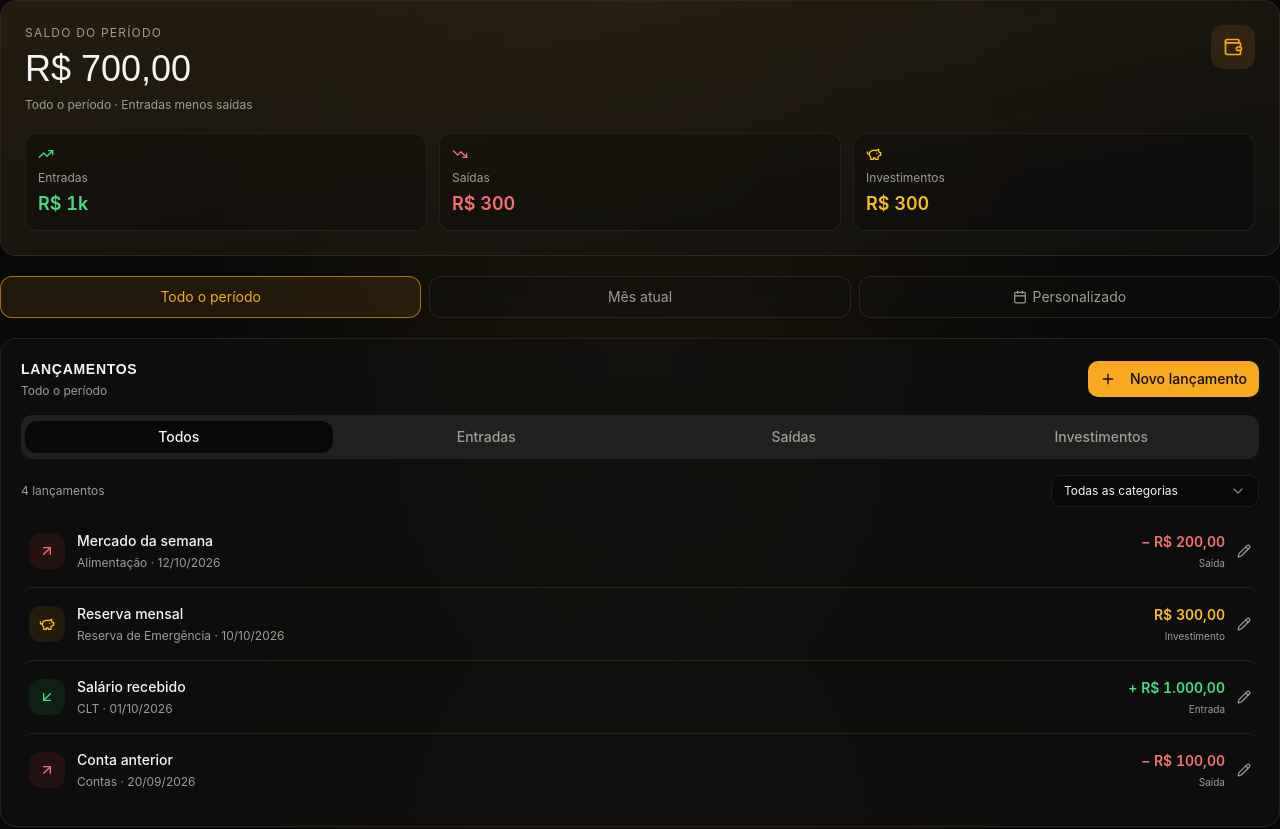
Test: finance overview and unified transactions › preselects the active tab type and allows choosing another type without clearing the description
Step 1. Press the mouse on the tab "Investimentos" → (1101,437), box [948,421,1255,453]
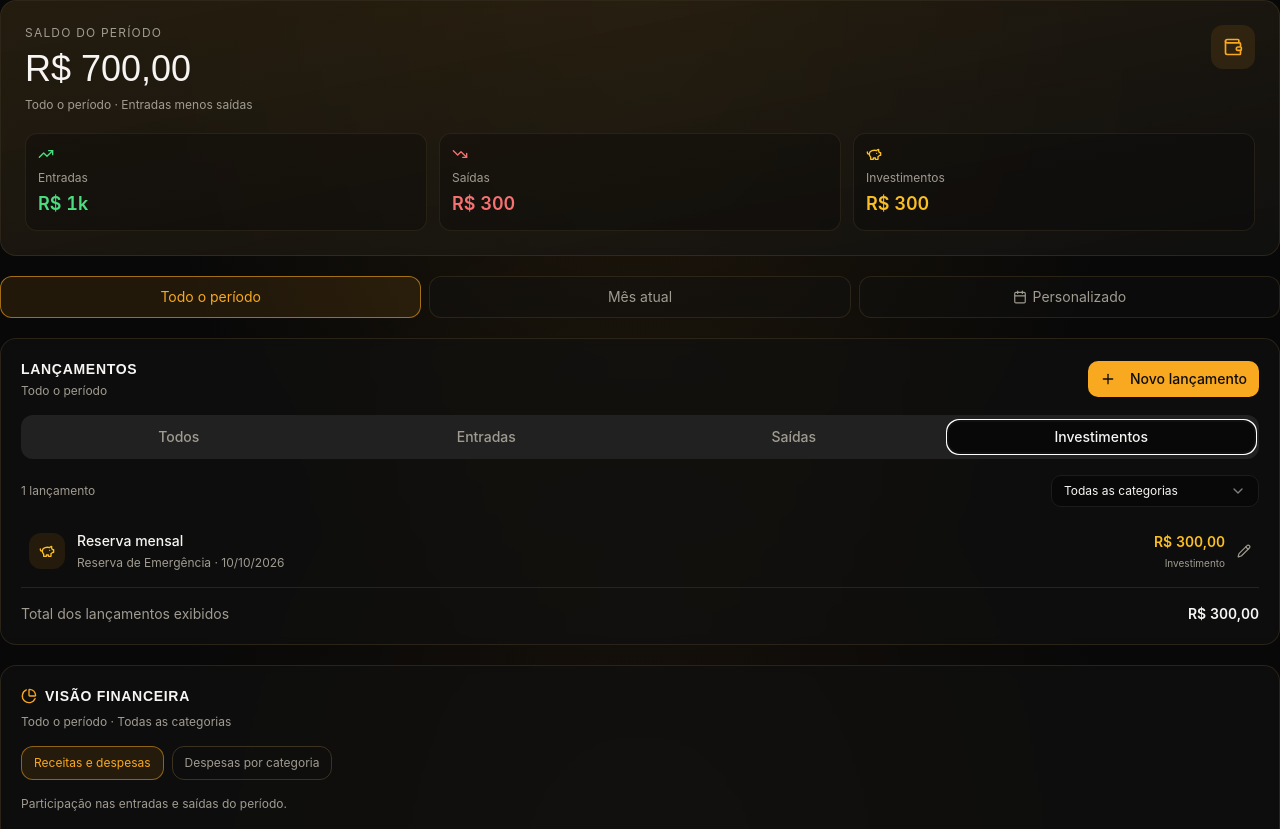
Step 2. Click the button "Novo lançamento" → (1174,379), box [1088,361,1259,397]
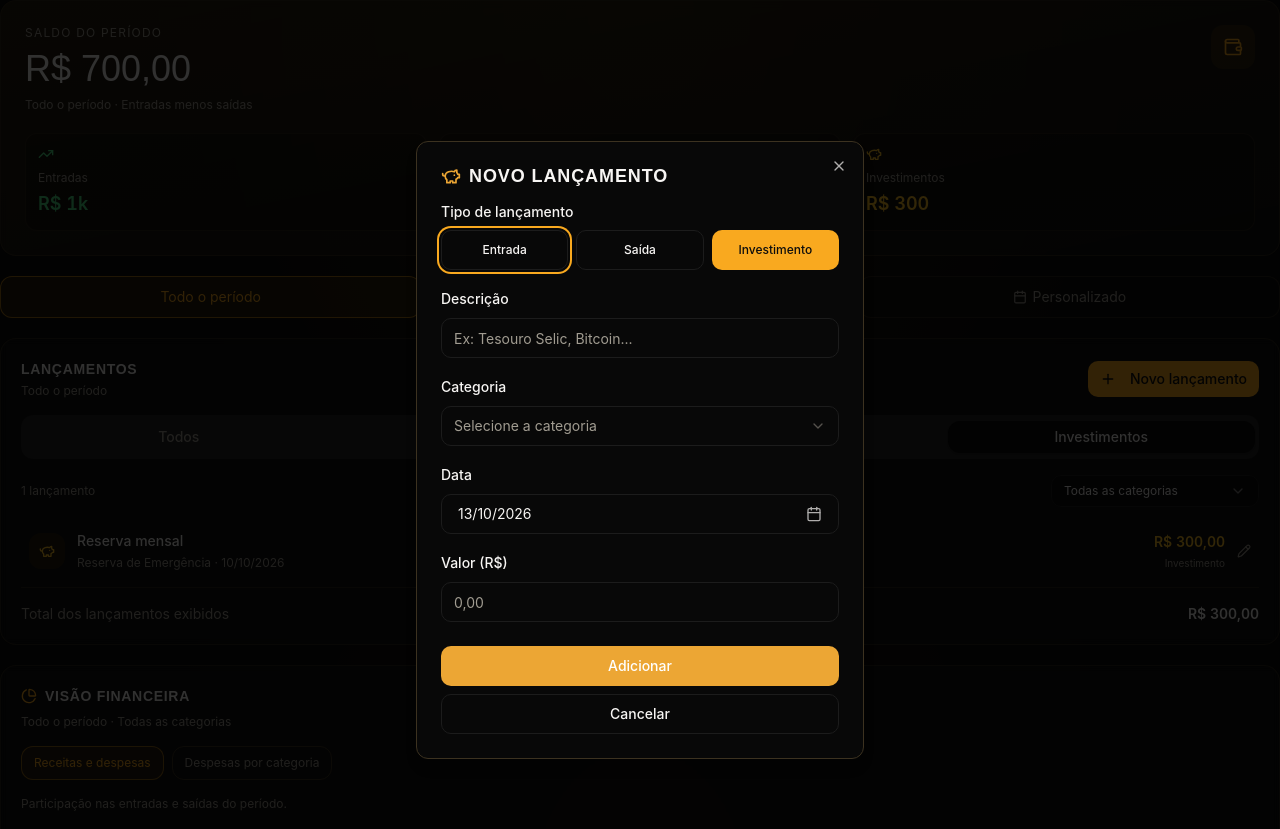
Step 3. Type "Novo registro" into the field labelled "Descrição" → (640,338), box [441,318,839,358]
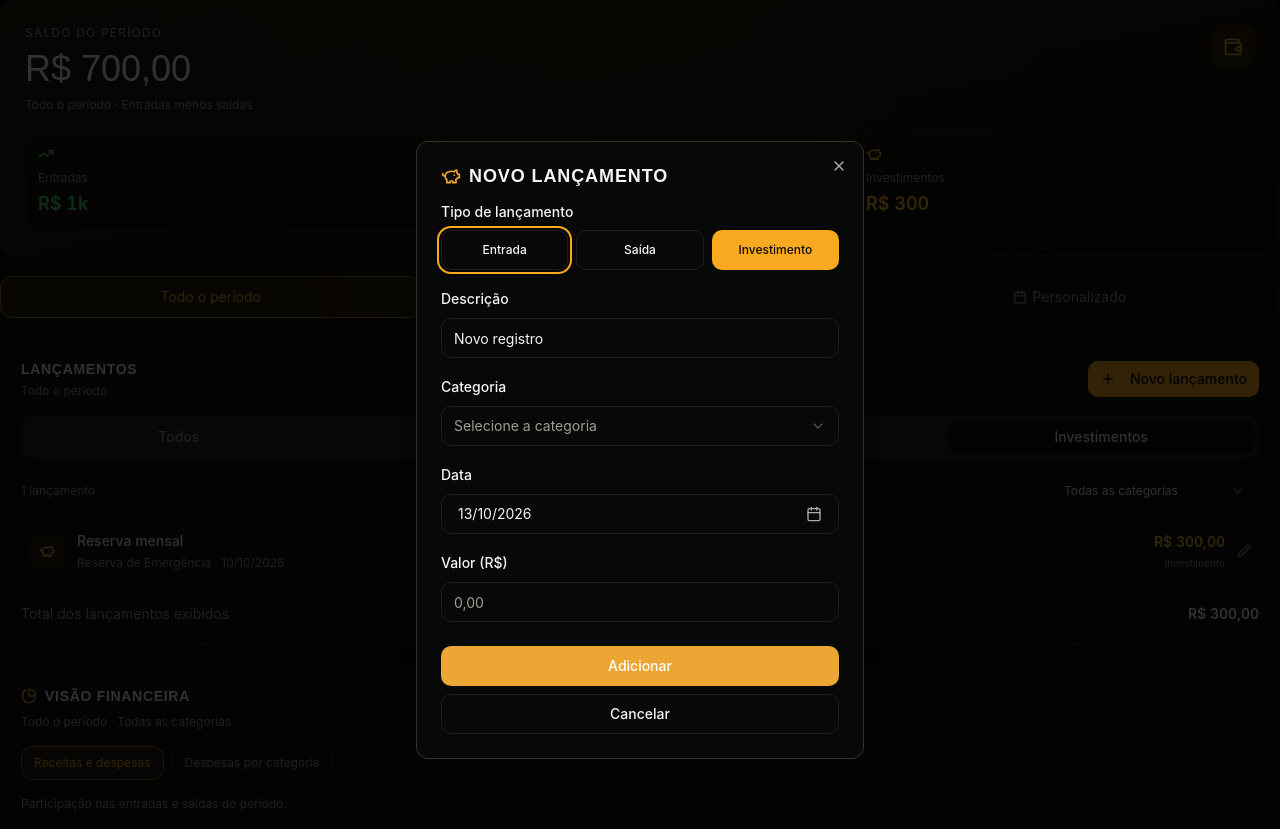
Step 4. Click the button "Entrada" → (505,250), box [441,230,568,270]
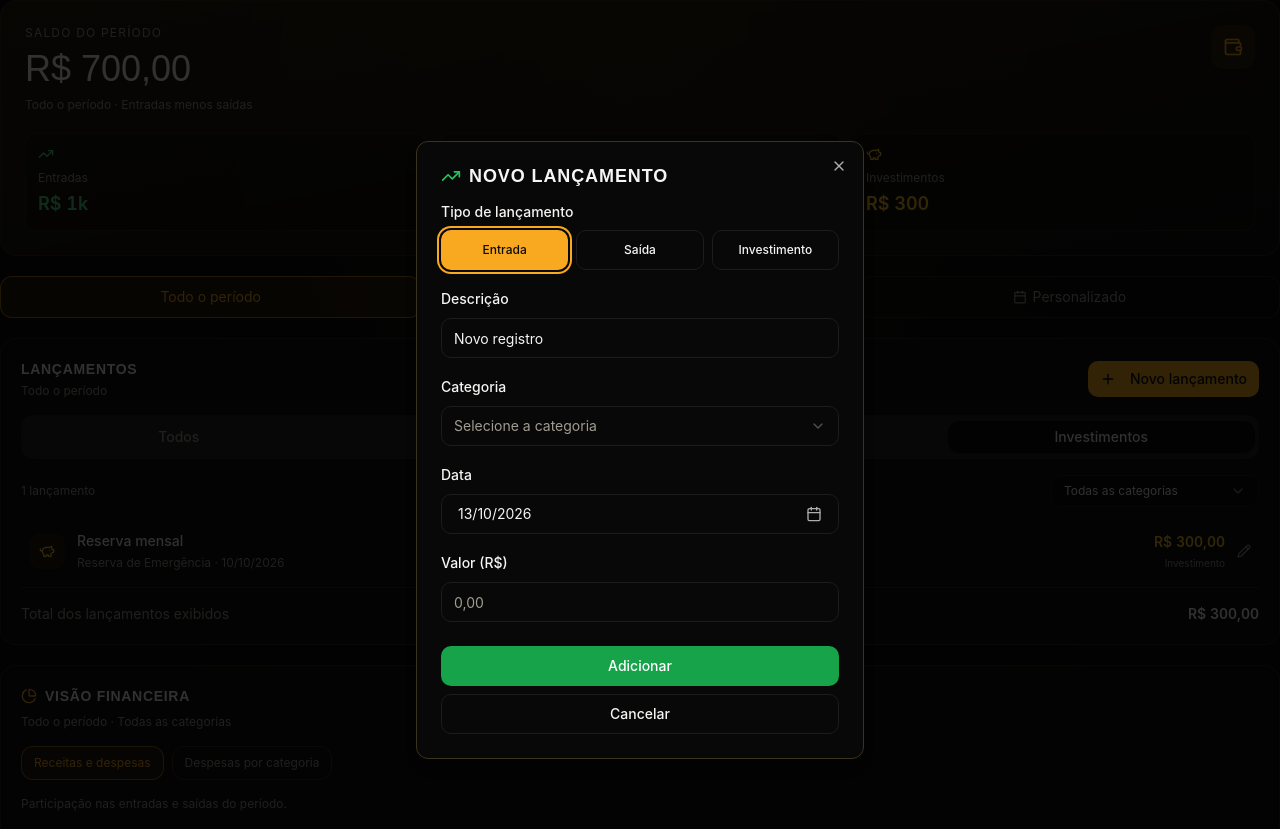
Expected: the button "Entrada" is pressed, [441,230,568,270]
